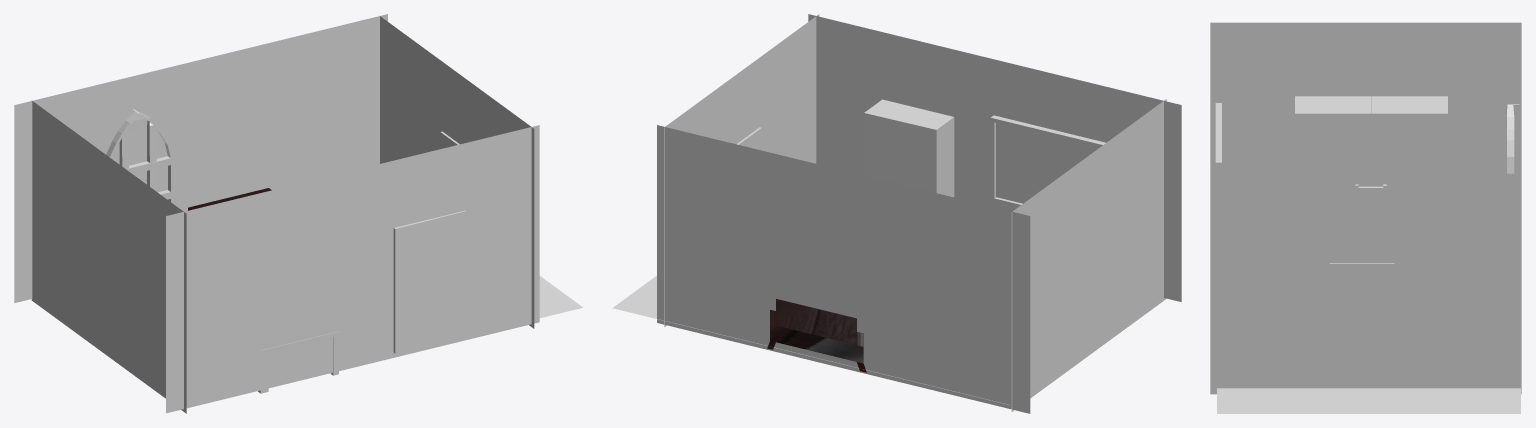
File: library old.fbx
3 renders of one model, left to right at view 1: azimuth 30°, elevation 25°; view 2: azimuth 150°, elevation 25°; view 3: azimuth 270°, elevation 25°, orthographic.
Parts seen in each view (by area): view 1: Plane.002, Plane.005, Plane.003, Plane.006, Plane.004, Cube.007, Cube.009, Plane.001, Cube.008; view 2: Plane.005, Plane.002, Plane.003, Plane.006, Cube.007, Plane.004, Cube.010, Plane.001; view 3: Plane.006, Plane.003, Cube.015, Plane.001, Cube.001, Cube, Cube.009, Plane.004.
Part boxes in pixels (bbox=[...]): Plane.002: bbox=[166, 125, 539, 413]; Plane.005: bbox=[14, 14, 387, 302]; Plane.003: bbox=[31, 100, 186, 413]; Plane.006: bbox=[380, 16, 534, 328]; Plane.004: bbox=[233, 226, 354, 339]; Cube.007: bbox=[393, 210, 466, 353]; Cube.009: bbox=[106, 109, 173, 203]; Plane.001: bbox=[539, 276, 582, 318]; Cube.008: bbox=[257, 331, 338, 393]; Plane.005: bbox=[657, 125, 1030, 413]; Plane.002: bbox=[808, 14, 1181, 301]; Plane.003: bbox=[1011, 99, 1166, 411]; Plane.006: bbox=[664, 14, 819, 326]; Cube.007: bbox=[864, 99, 954, 197]; Plane.004: bbox=[990, 115, 1105, 207]; Cube.010: bbox=[767, 299, 866, 372]; Plane.001: bbox=[612, 275, 1008, 404]; Plane.006: bbox=[1210, 193, 1521, 394]; Plane.003: bbox=[1210, 22, 1521, 193]; Cube.015: bbox=[1329, 263, 1394, 386]; Plane.001: bbox=[1217, 388, 1520, 413]; Cube.001: bbox=[1371, 96, 1447, 193]; Cube: bbox=[1295, 96, 1371, 193]; Cube.009: bbox=[1506, 104, 1519, 193]; Plane.004: bbox=[1215, 103, 1221, 193].
Size of the model in its own units: 3103 by 1422 by 1993.
